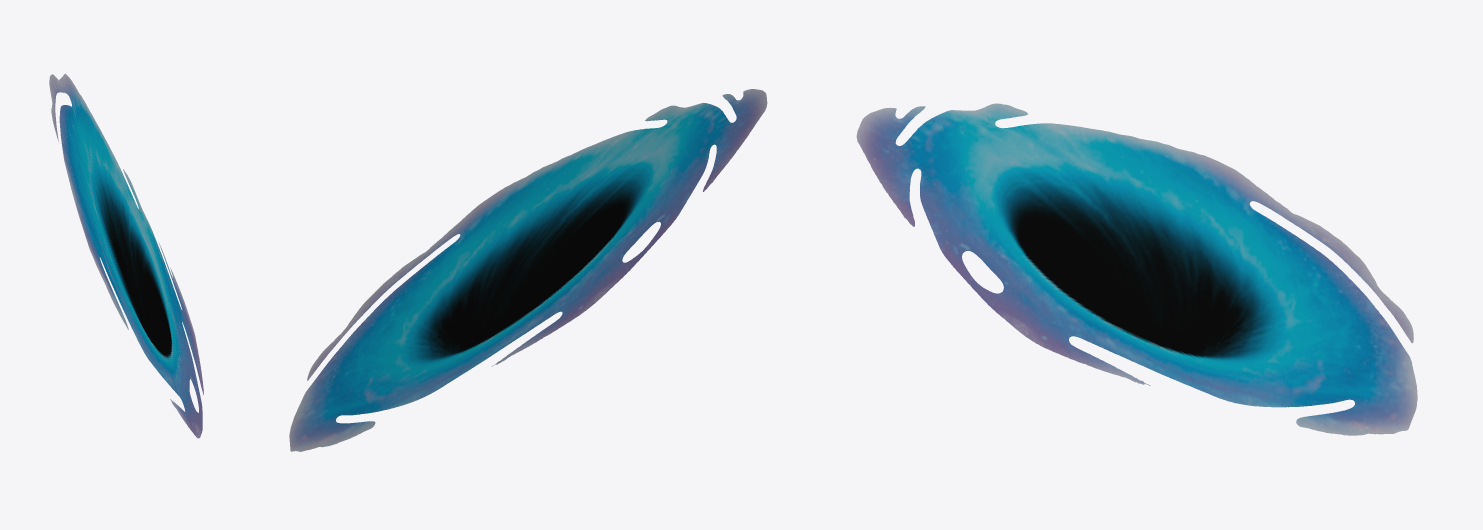
The model's file is ryppy.fbx.
3 views of the same model, side by side, from view 1: azimuth 30°, elevation 25°; view 2: azimuth 150°, elevation 25°; view 3: azimuth 270°, elevation 25° (orthographic). The views are drawn at different scales.
Visible parts, largest first — view 1: Plane.001; view 2: Plane.001; view 3: Plane.001.
Part boxes in pixels (box(x1,y1,x2,y2)): Plane.001: box(49, 73, 203, 438); Plane.001: box(289, 89, 767, 451); Plane.001: box(856, 103, 1417, 435).
Bounding box in the file's own units: 1280 × 2030 × 3149.
Materials: 1 (1 with a texture image).
